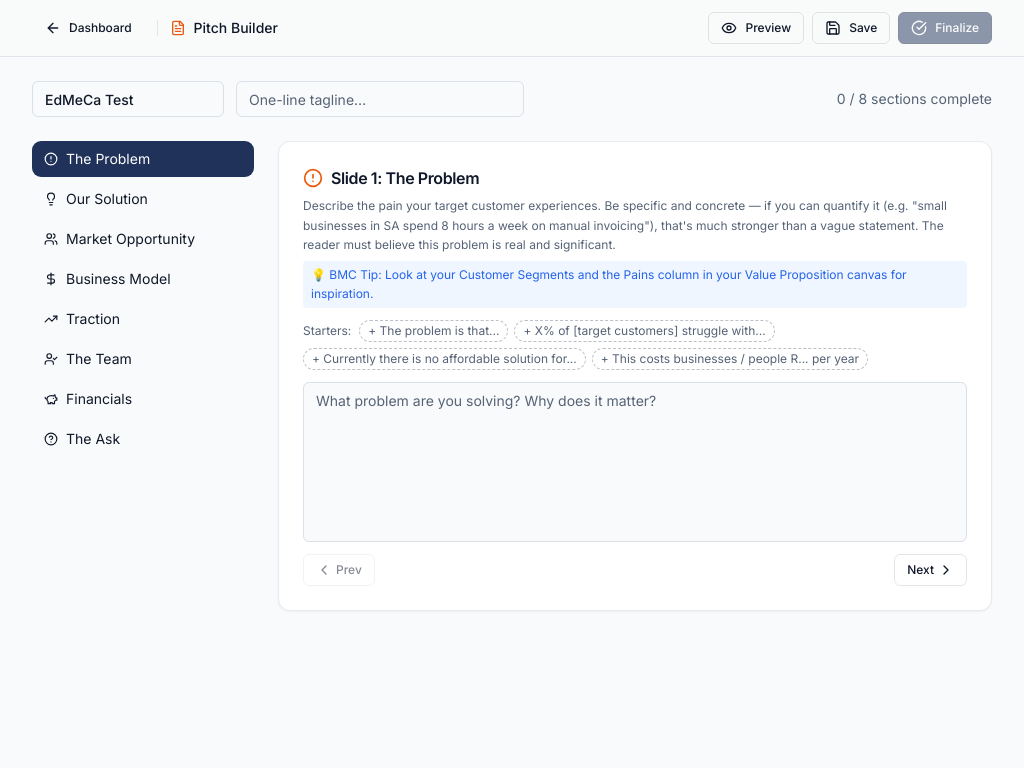
PitchBuilderTool › text typed in Problem persists after navigating away and back
The image size is (1024, 768).
Expected: the text "Slide 1: The Problem" is shown, top-left (303, 168), bottom-right (479, 188)
Type "Entrepreneurs lack structured tools" into the text box with placeholder "What problem are you solving? Why does it matter?" at [635, 462], box top-left (303, 382), bottom-right (967, 542)
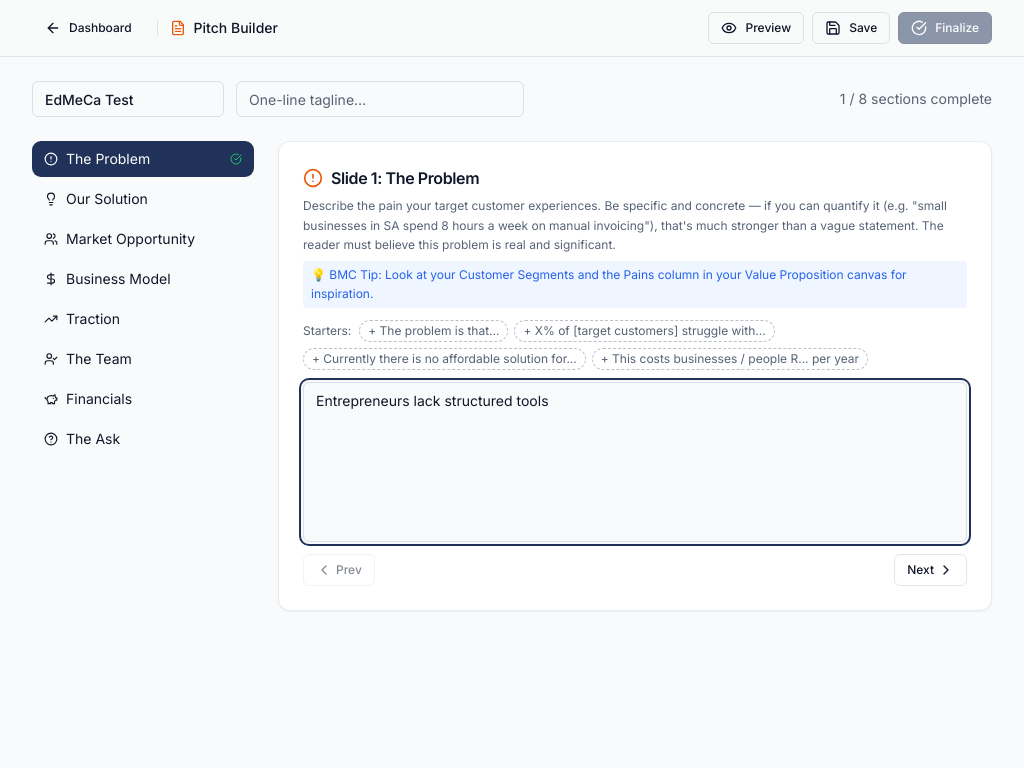
Click the button "Next" at [931, 570], box top-left (894, 554), bottom-right (967, 586)
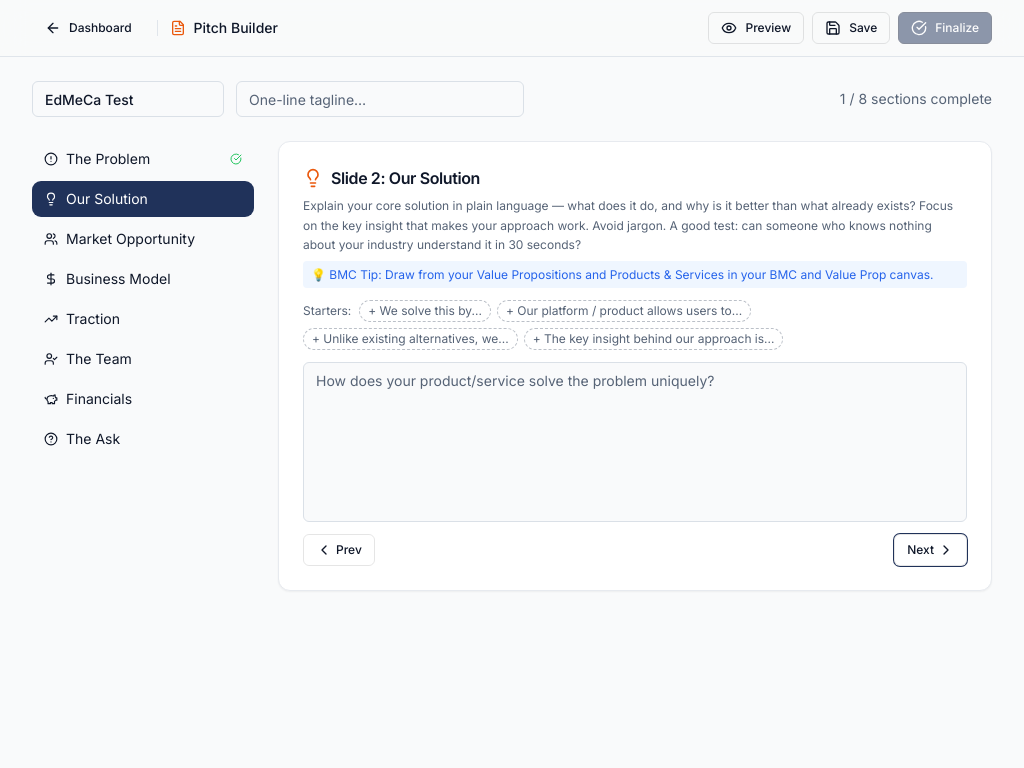
Now the text "Slide 2: Our Solution" is shown, box top-left (303, 168), bottom-right (480, 188)
Click the button "Prev" at [339, 550], box top-left (303, 534), bottom-right (375, 566)
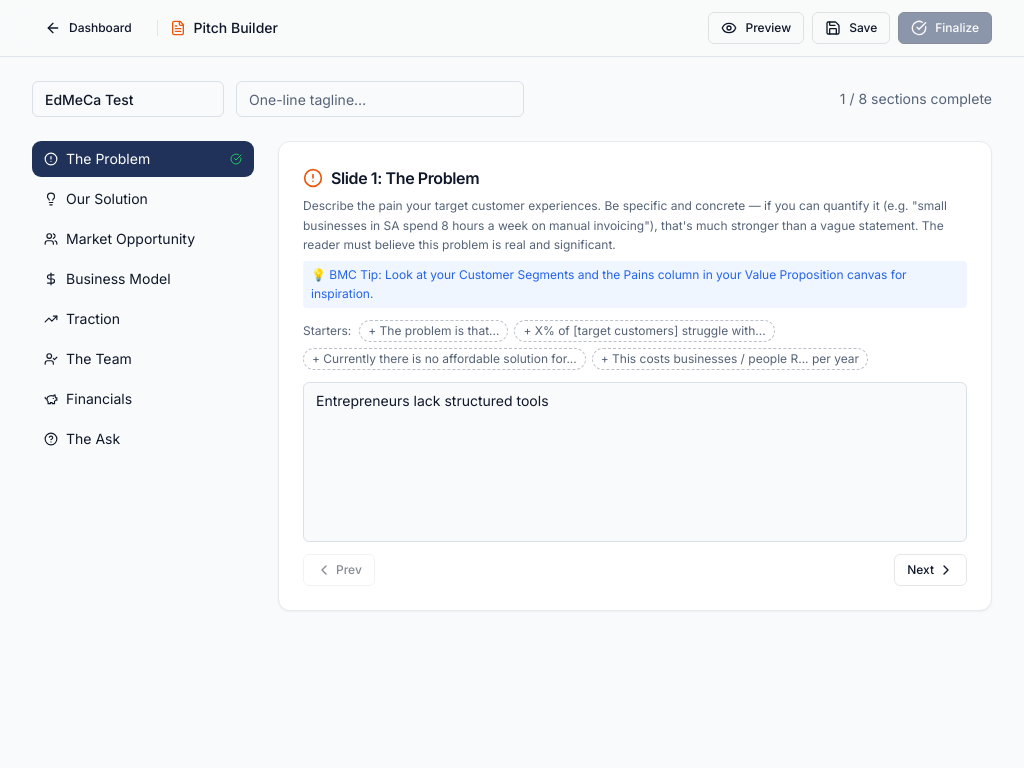
Now the text "Slide 1: The Problem" is shown, box top-left (303, 168), bottom-right (479, 188)
